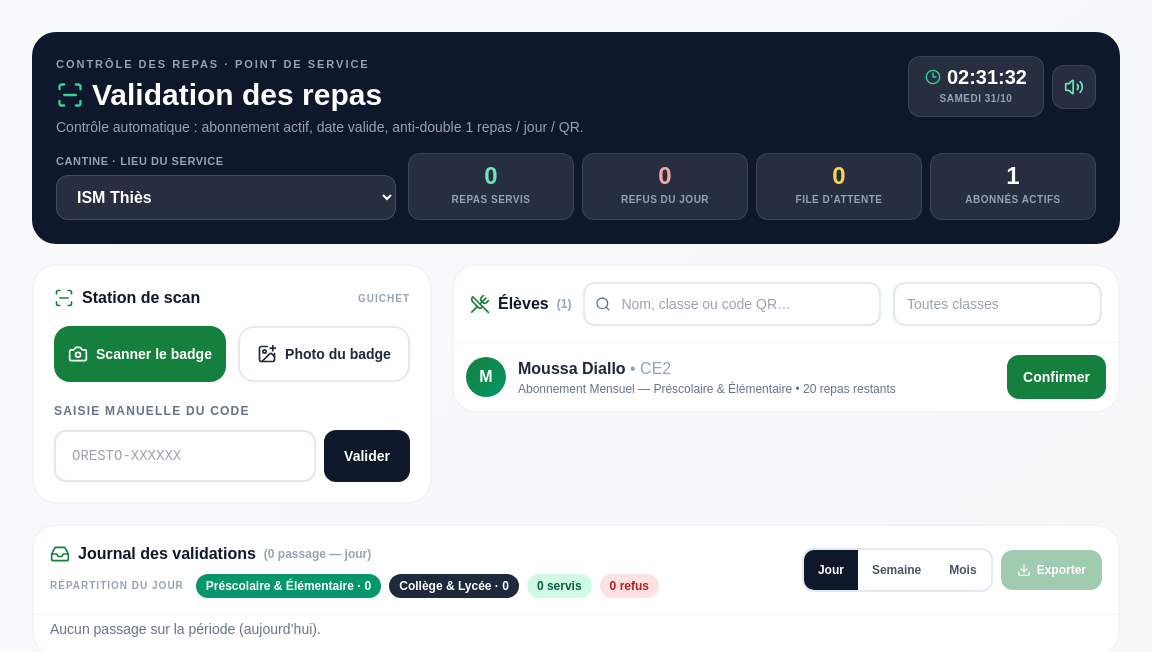
Poste de service — ValidationPage (espace Personnel) › ouvre la fiche et ne débite qu’après confirmation explicite
This screenshot has width=1152, height=652.
What coordinates should you click on to do the following:
click the button with aria-label "préparer le repas de moussa diallo"
I would click on:
 (1057, 377)
Its box is [1007, 355, 1106, 399].
(page scrolled)
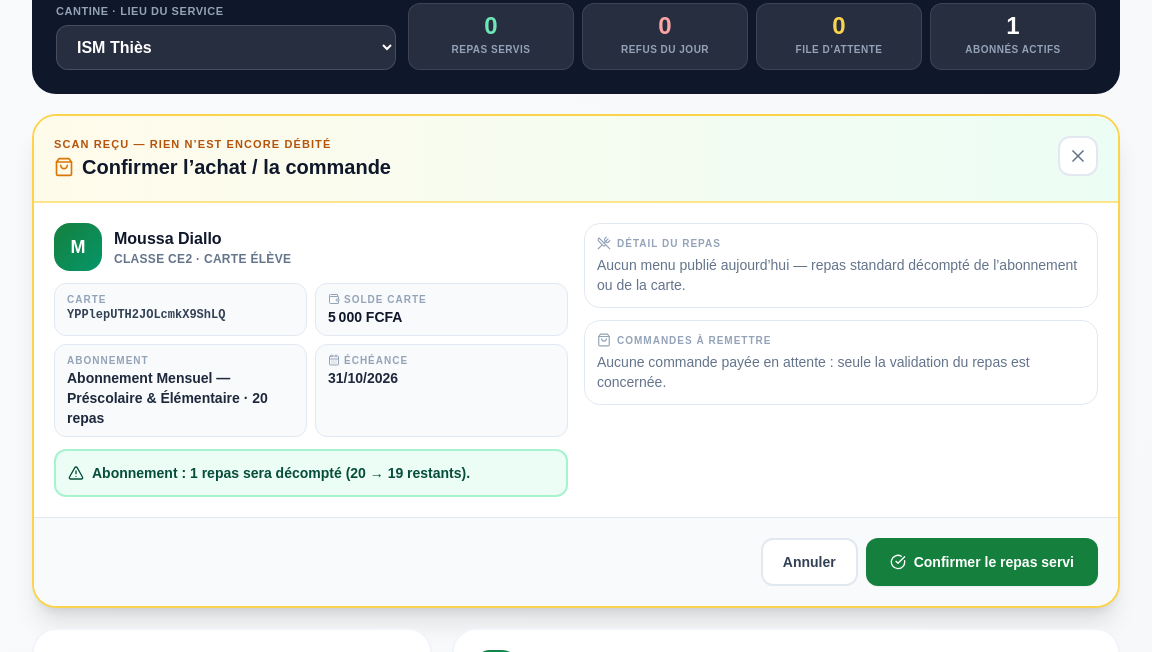
expect the heading "Confirmer l’achat / la commande" is shown: met, box [54, 152, 391, 180]
expect the text "Abonnement : 1 repas sera décompté (20 → 19 restants)." is shown: met, box [92, 462, 470, 482]
# Étape 2 : confirmation → le repas est validé.
What coordinates should you click on to do the following:
click the button "Confirmer le repas servi"
I would click on:
 (982, 562)
Its box is [866, 538, 1098, 586].
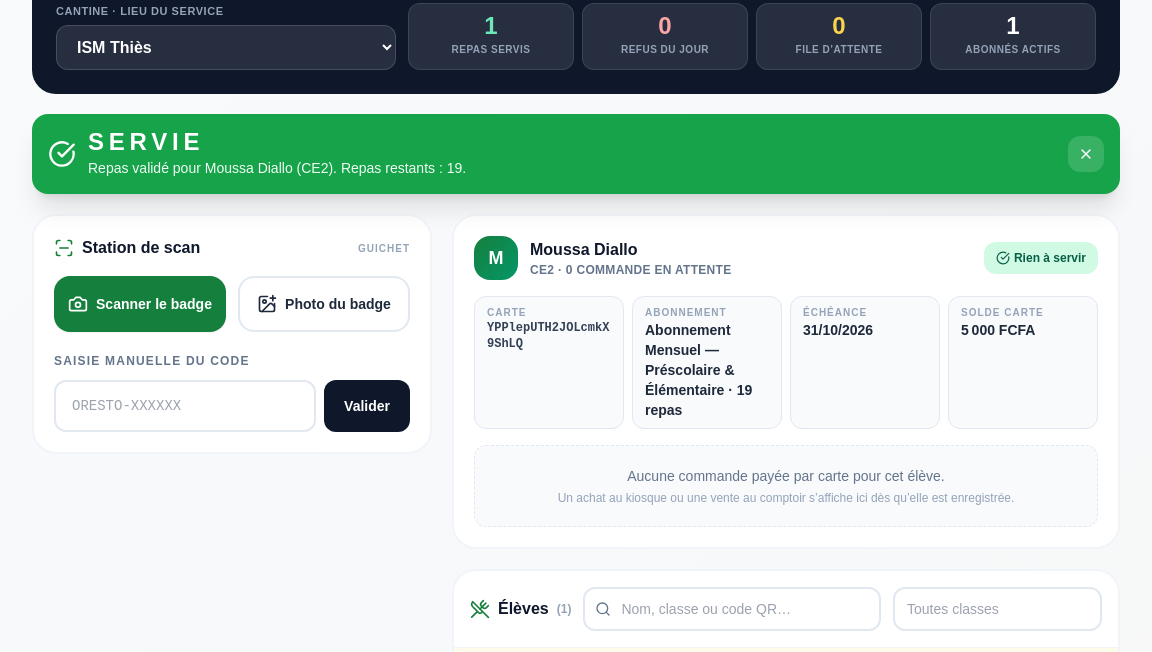
expect the message shows "Servie": met, box [88, 128, 204, 155]
expect the message shows "Repas validé": met, box [88, 160, 466, 176]
